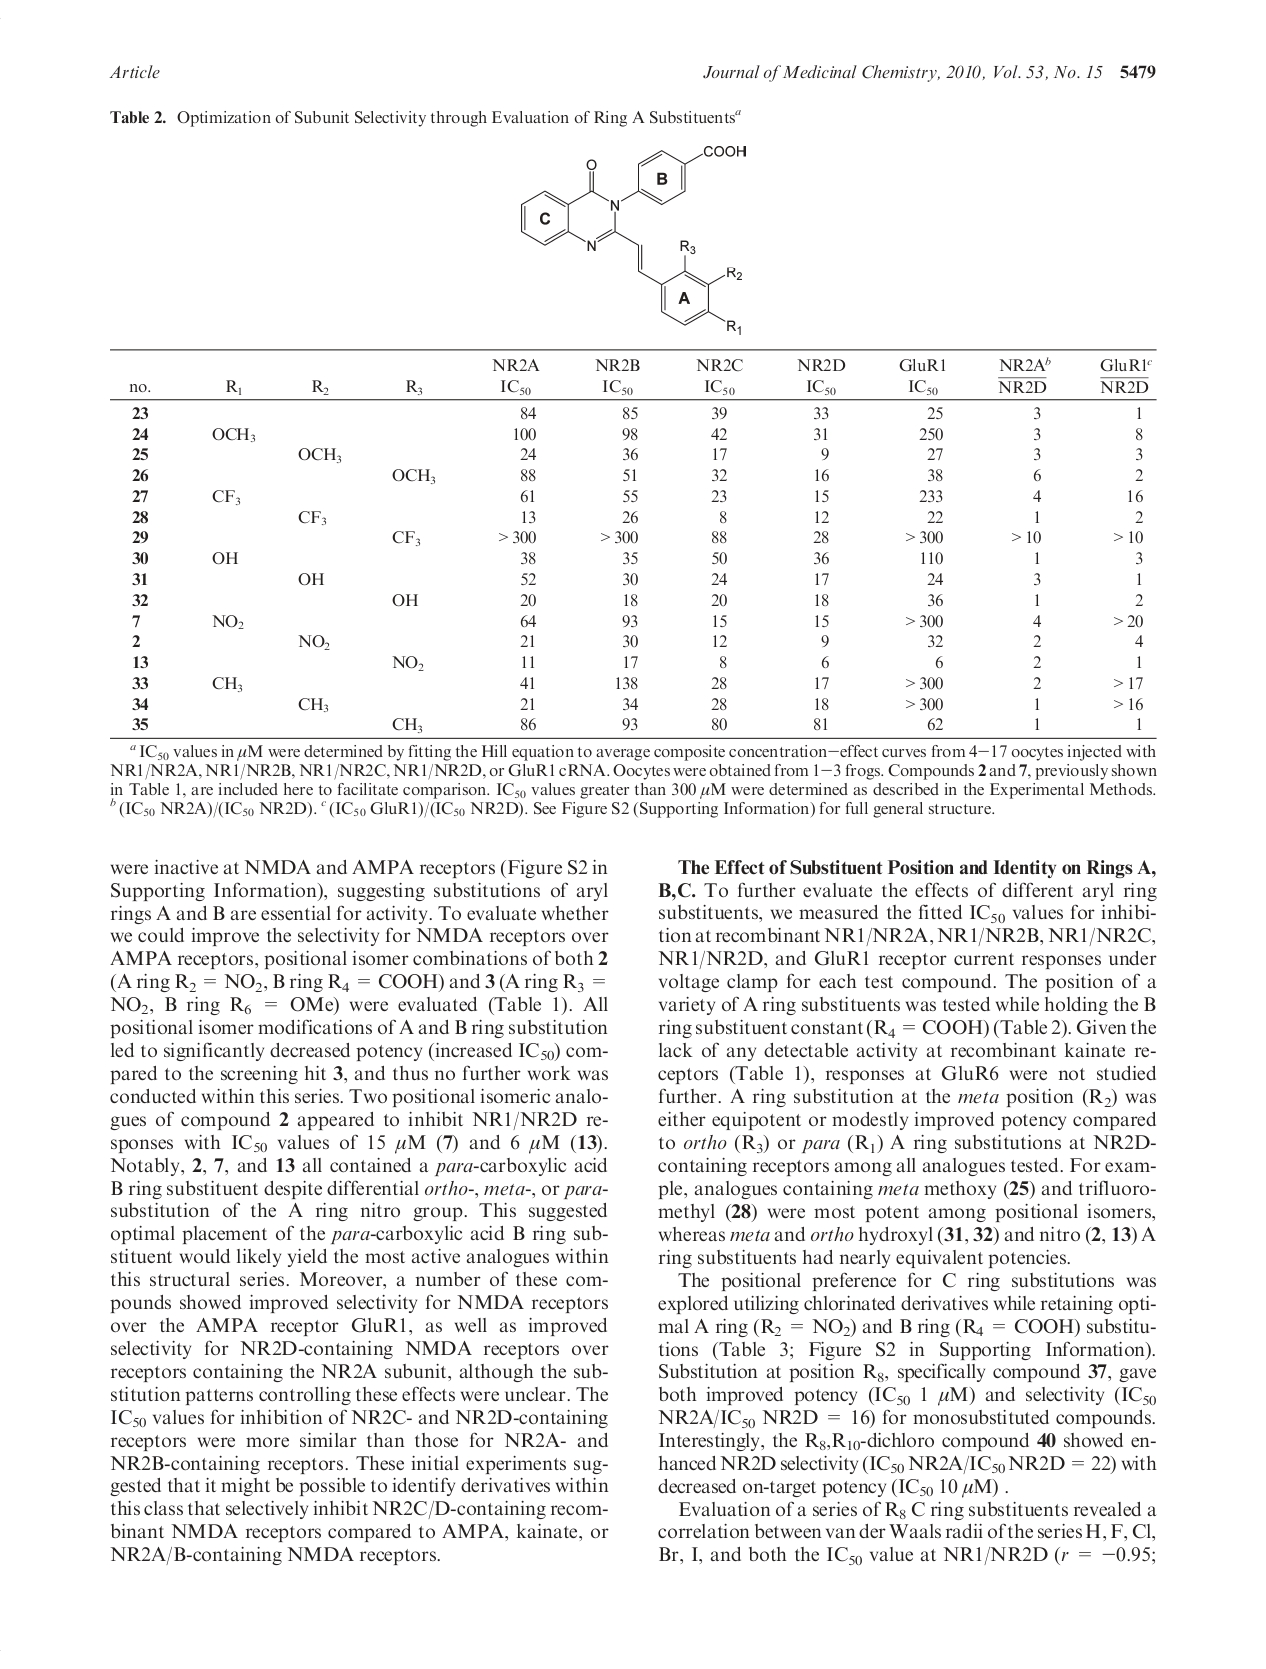exist_molecular: (519, 140, 755, 338)
